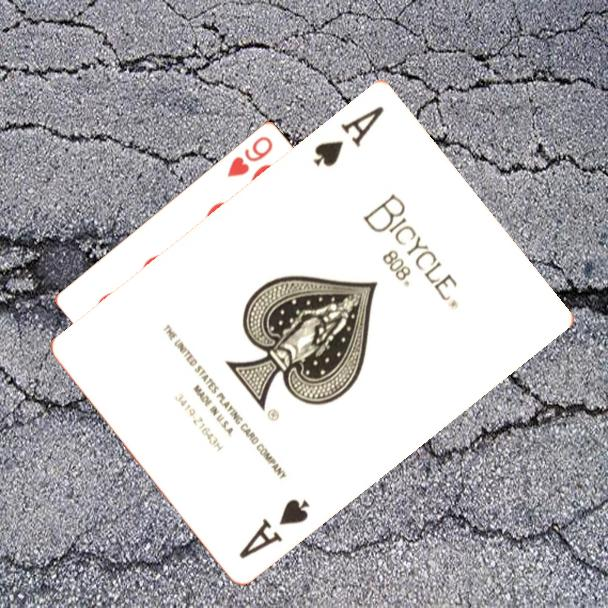h09: (224, 132, 276, 180)
s01: (309, 101, 388, 170), (235, 494, 313, 561)
